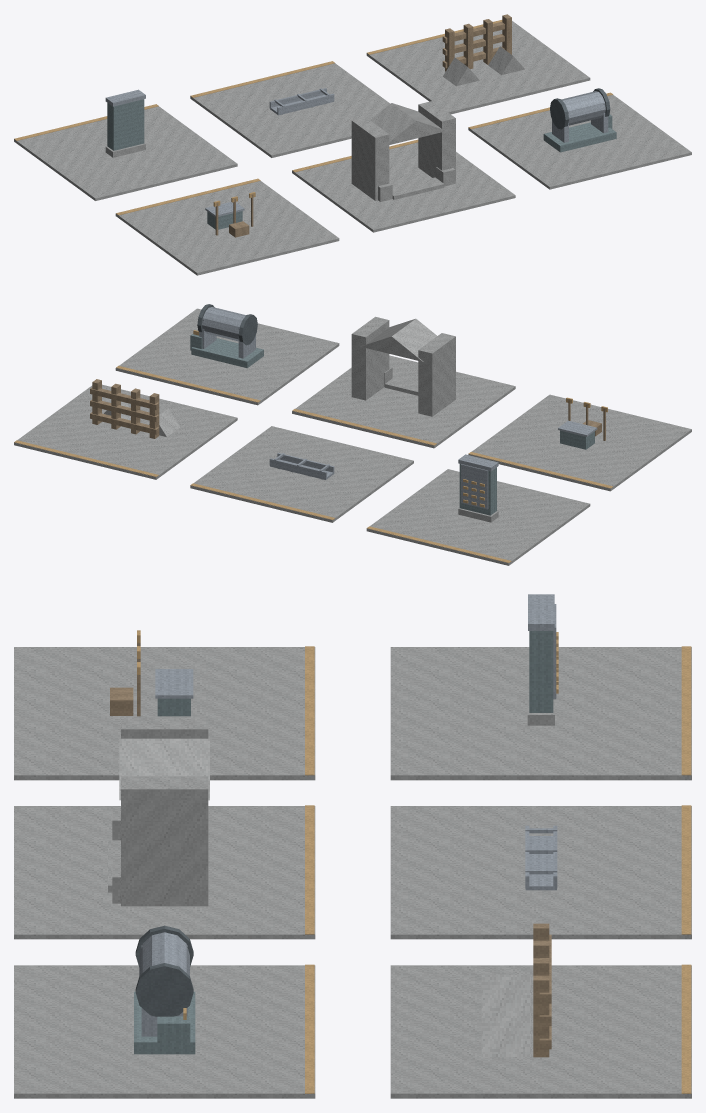
File: level_blockout_kit_wld_05_p02.glb
The picture shows the model from 3 angles, top to bottom: view 1: azimuth 30°, elevation 25°; view 2: azimuth 150°, elevation 25°; view 3: azimuth 270°, elevation 25°; orthographic projection. The views are drawn at different scales.
Visible parts, largest first — view 1: level_blockout_kit_wld_05_p02; view 2: level_blockout_kit_wld_05_p02; view 3: level_blockout_kit_wld_05_p02.
Boxes of the visible parts, x1,y1,x2,y2 form: level_blockout_kit_wld_05_p02: [14, 14, 691, 275]; level_blockout_kit_wld_05_p02: [14, 304, 691, 565]; level_blockout_kit_wld_05_p02: [14, 594, 691, 1098].
Bounding box in the file's own units: 19.65 × 2.8 × 12.6.
6 materials, 6 textured.
